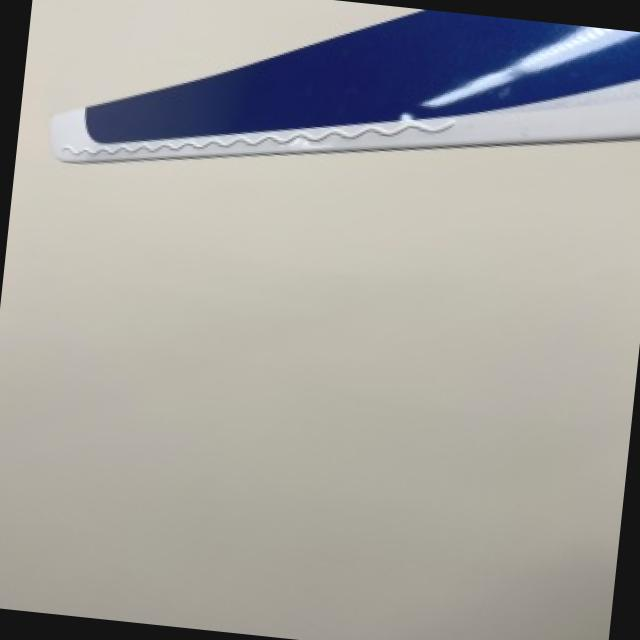healthy: (52, 9, 640, 160)
